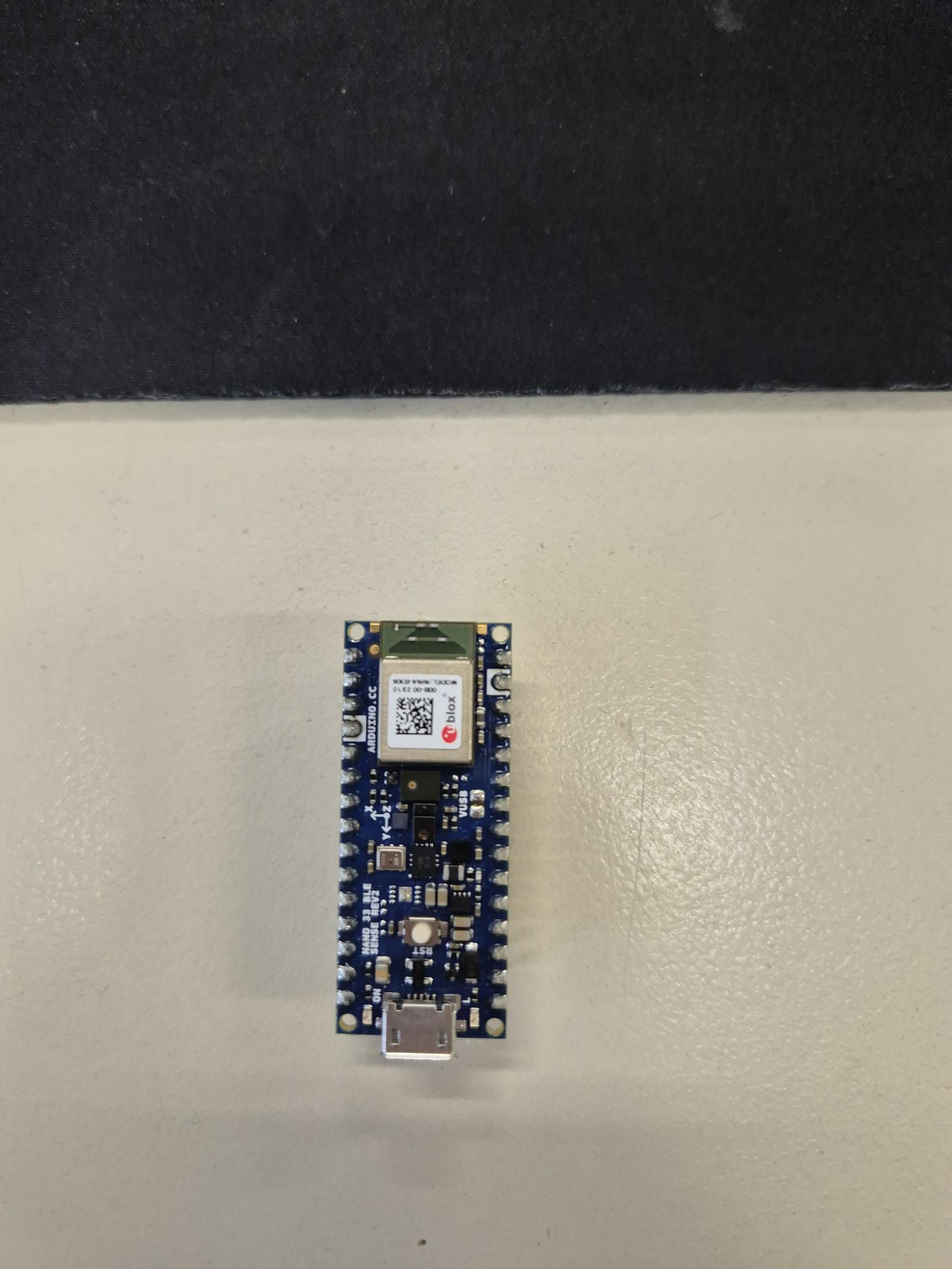arduino-nano-ble-sense: (338, 621, 511, 1059)
